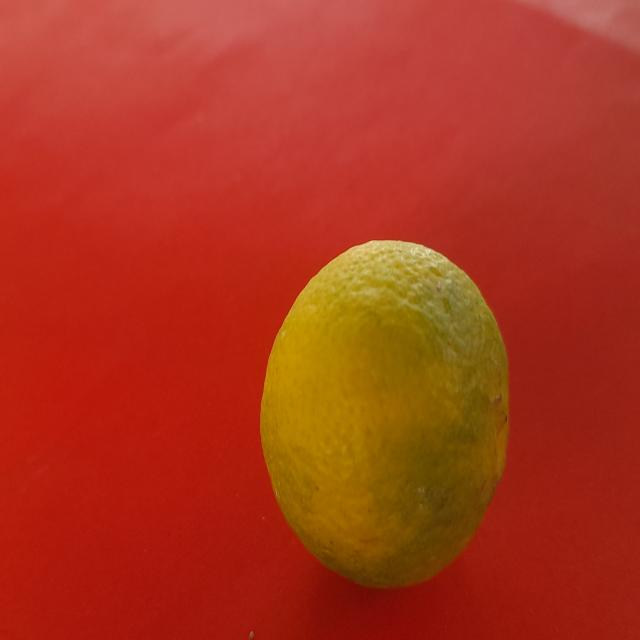greening: (258, 239, 510, 582)
